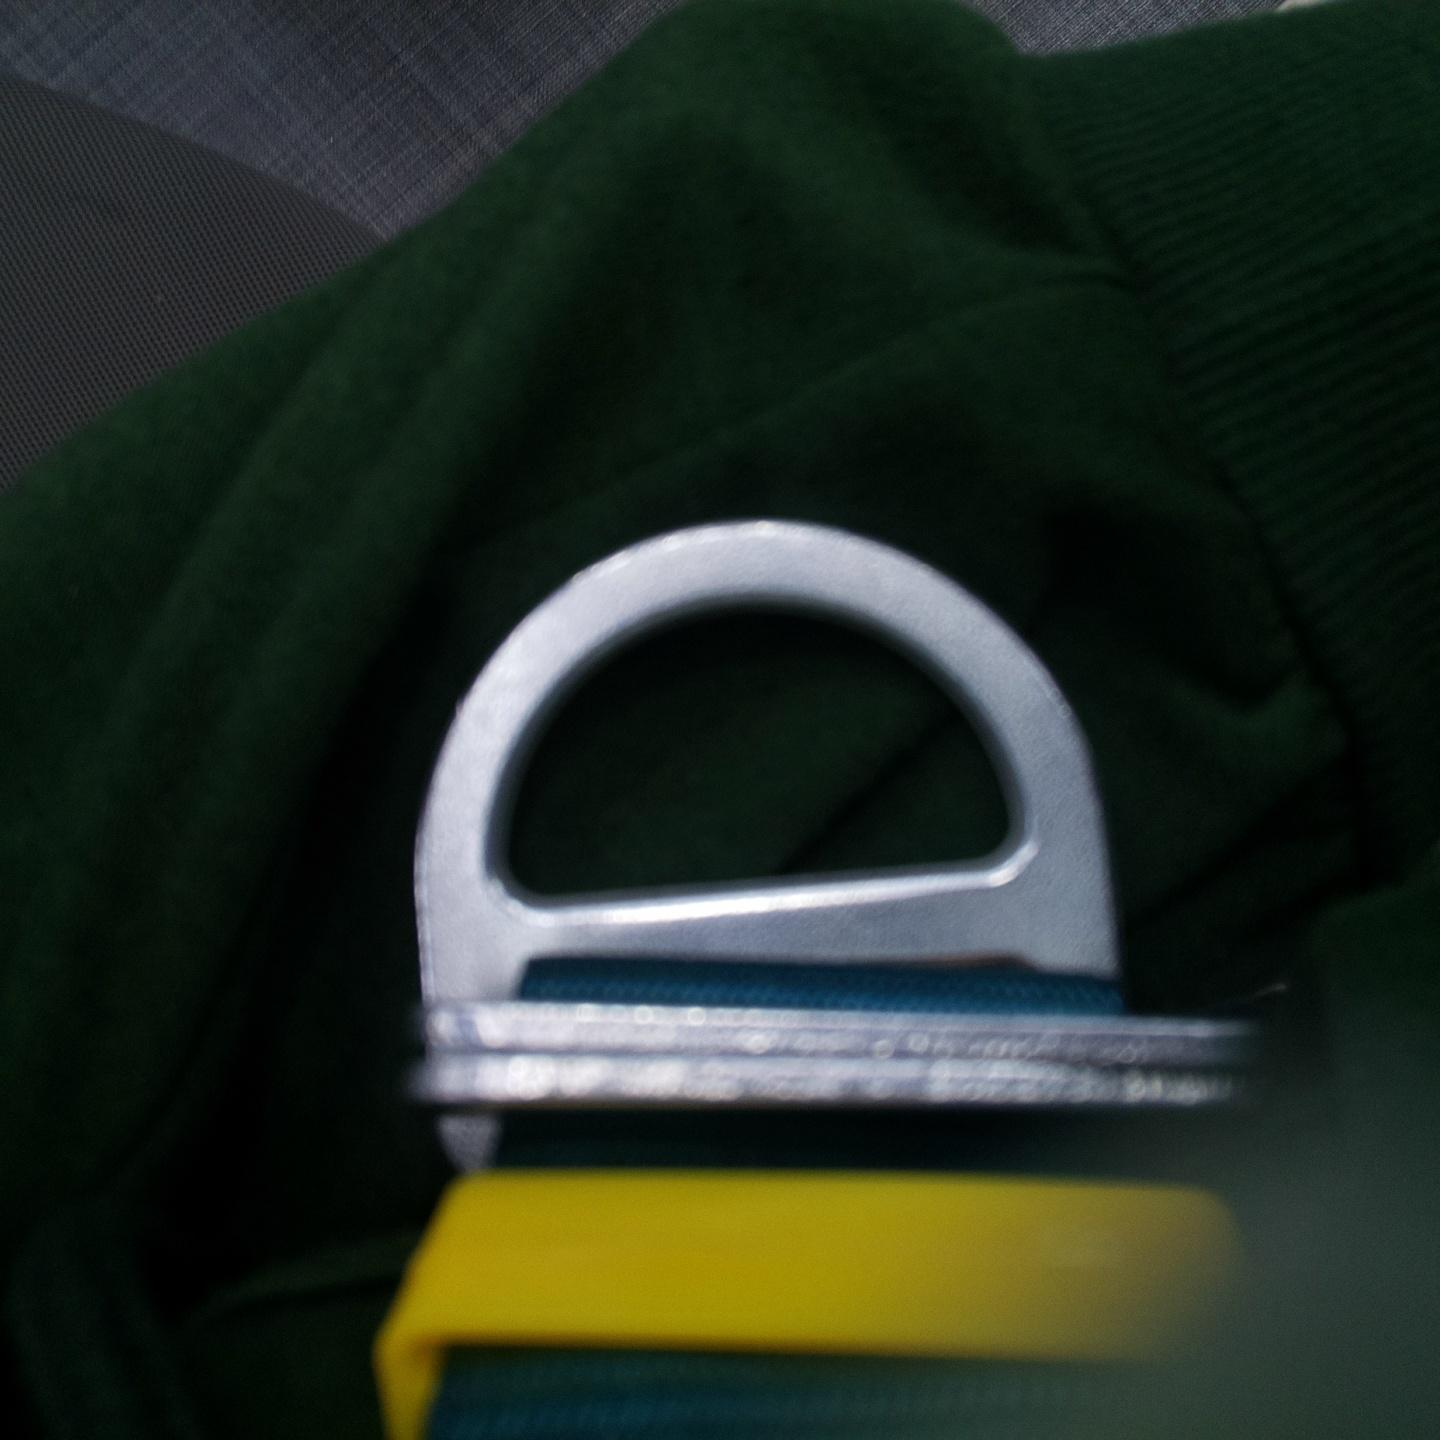UNSUCCESS: (410, 518, 1124, 1004)
